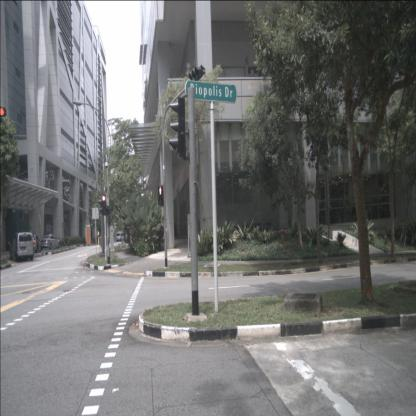vehicle-car: (8, 232, 33, 260), (40, 234, 61, 249), (28, 234, 42, 252), (116, 231, 122, 242)
